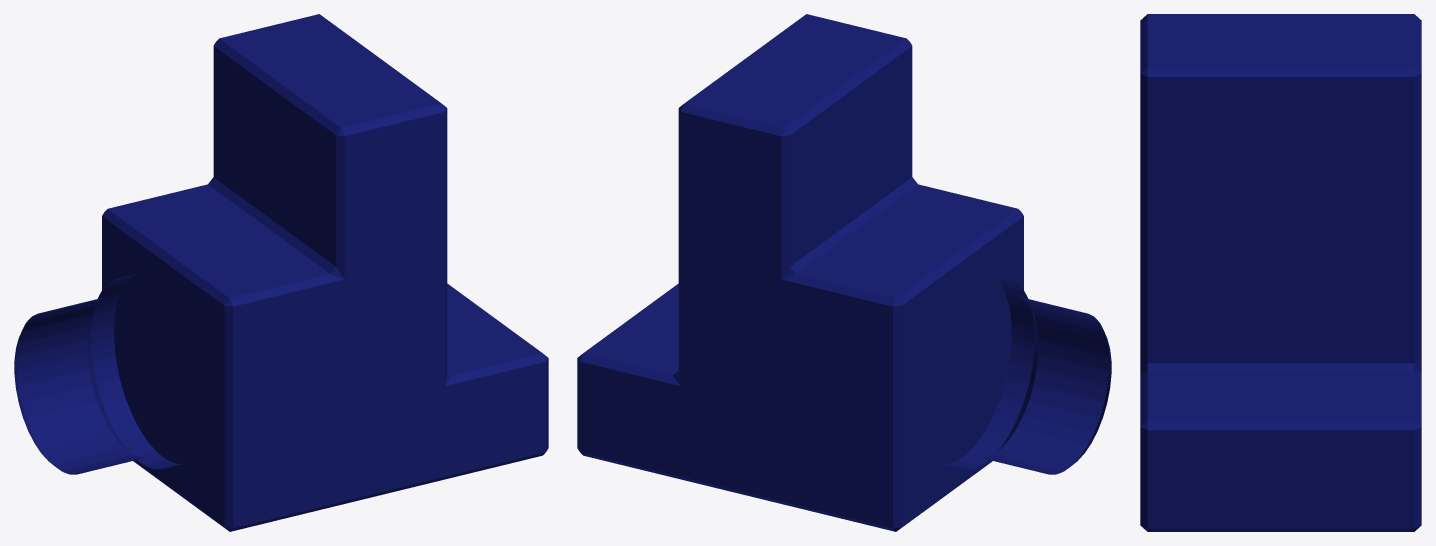
Rendered from assembly_sensor_part_blue.dae.
The picture shows the model from 3 angles, left to right: view 1: azimuth 30°, elevation 25°; view 2: azimuth 150°, elevation 25°; view 3: azimuth 270°, elevation 25°; orthographic projection. The views are drawn at different scales.
Parts seen in each view (by area): view 1: inputSensor; view 2: inputSensor; view 3: inputSensor.
Part boxes in pixels (box(x1,y1,x2,y2)): inputSensor: box(14, 14, 548, 531); inputSensor: box(577, 14, 1111, 531); inputSensor: box(1140, 14, 1421, 531).
Bounding box in the file's own units: 0.1313 × 0.0674 × 0.1087.
